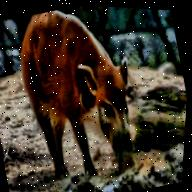boar: (9, 1, 162, 192)
